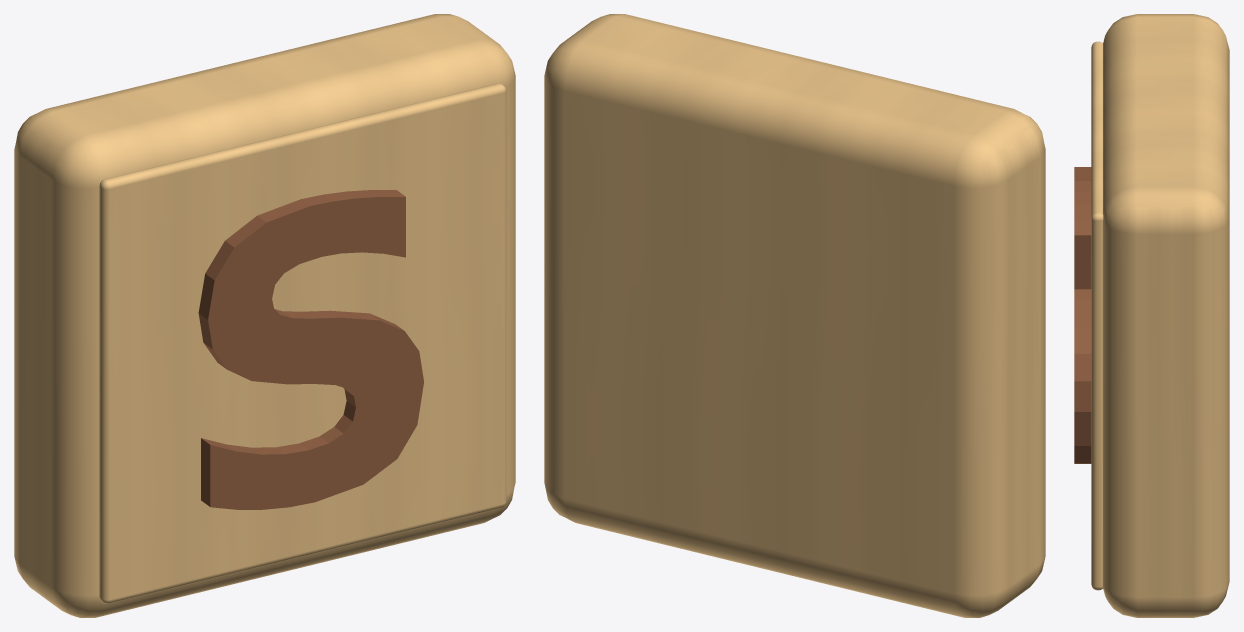
The picture shows the model from 3 angles, left to right: view 1: azimuth 30°, elevation 25°; view 2: azimuth 150°, elevation 25°; view 3: azimuth 270°, elevation 25°; orthographic projection. The views are drawn at different scales.
Visible parts, largest first — view 1: Tile_S; view 2: Tile_S; view 3: Tile_S.
Part boxes in pixels (left/top/right/bottom): Tile_S: left=14, top=14, right=515, bottom=617; Tile_S: left=544, top=14, right=1045, bottom=617; Tile_S: left=1074, top=14, right=1229, bottom=617.
Size of the model in its own units: 0.21 by 0.21 by 0.069.
2 materials, 1 textured.
